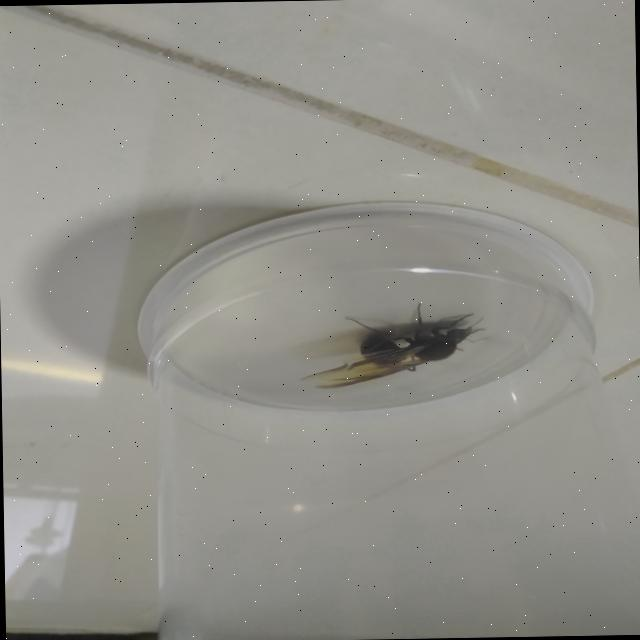Alive-Female-Alate: (298, 302, 490, 388)
